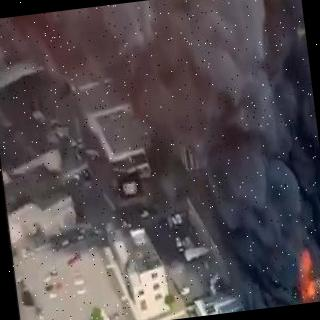smoke: (0, 0, 320, 261), (210, 218, 302, 314)
